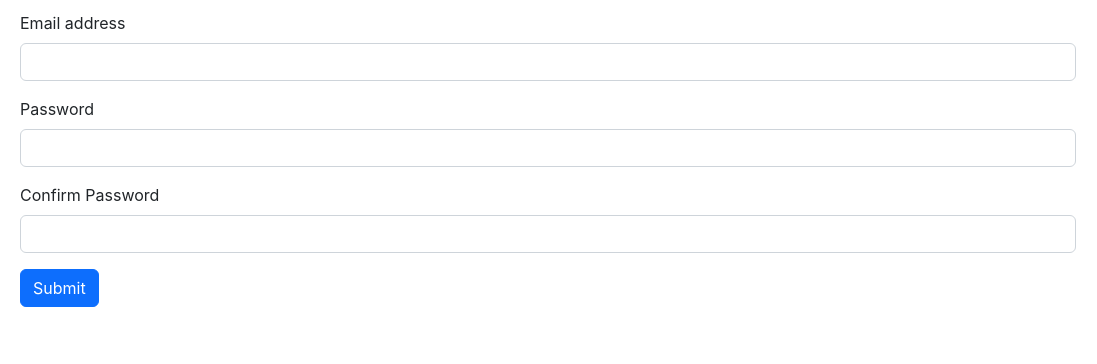
Basic component › happy path › should show no error message if every input is valid
Type "selena@gmail.com" into the field labelled "Email address" at (548, 62), box [20, 43, 1076, 81]
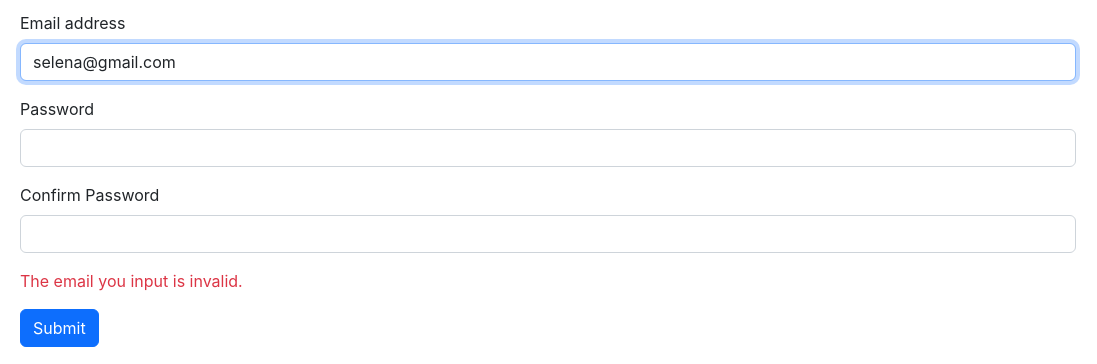
Type "12345" into the password field labelled "Password" at (548, 148), box [20, 129, 1076, 167]
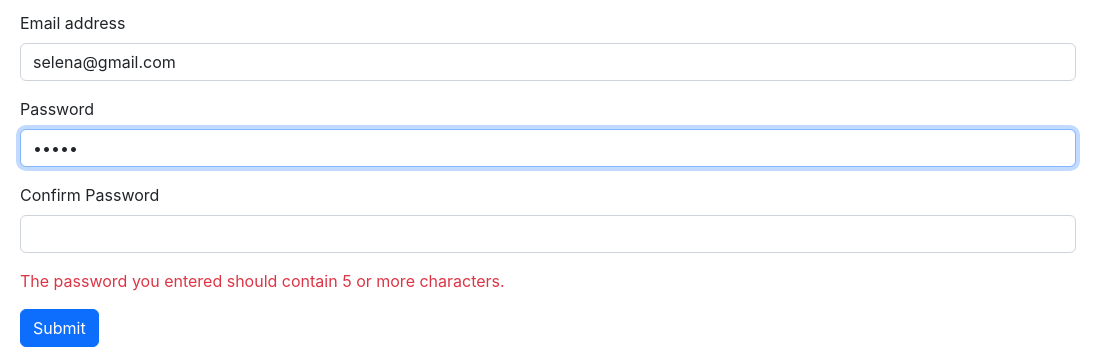
Type "12345" into the password field labelled "Confirm Password" at (548, 234), box [20, 215, 1076, 253]
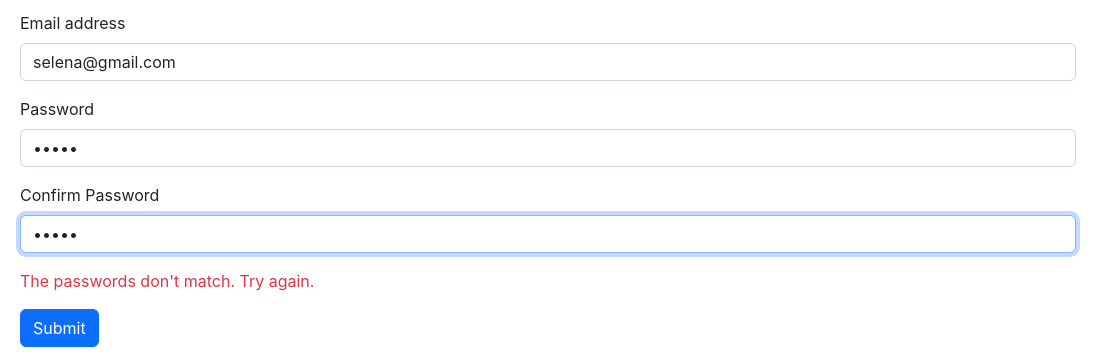
Click the button "Submit" at (59, 328), box [20, 309, 99, 347]
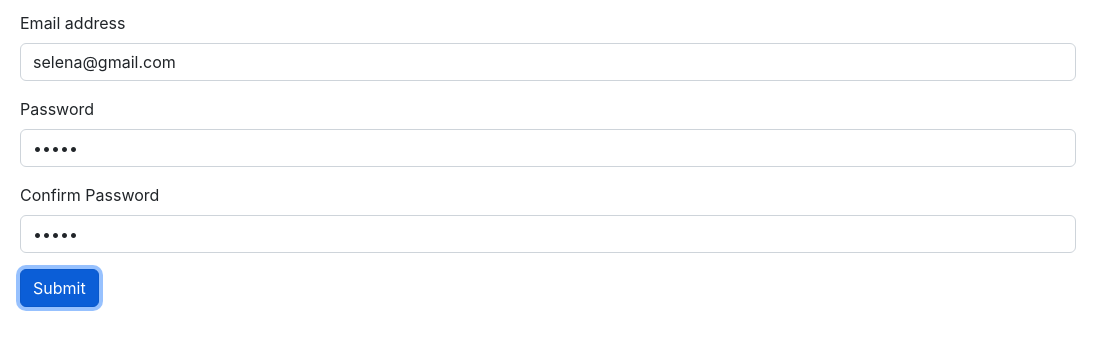
Expected: the text "The email you input is invalid" is not shown
Result: the text "The passwords don't match. Try again" is gone
